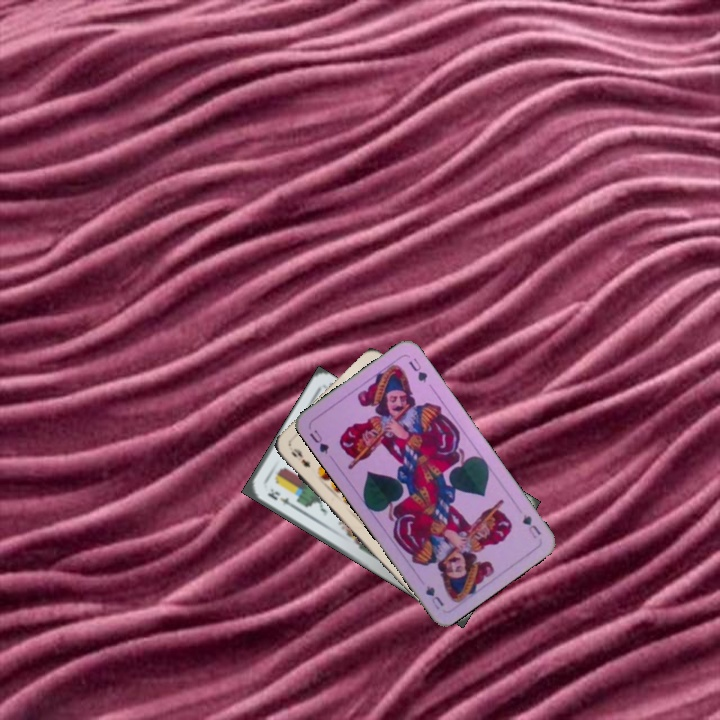E9: (286, 444, 313, 470)
EK: (263, 484, 297, 511)
GU: (305, 426, 332, 457), (518, 510, 544, 541)
